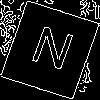N: (25, 25, 77, 80)
